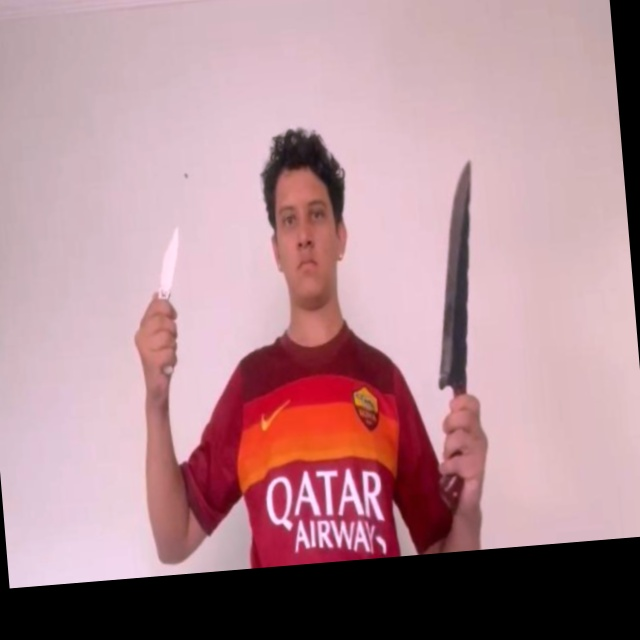Sharp-Object: (420, 161, 490, 390), (156, 223, 183, 291)
